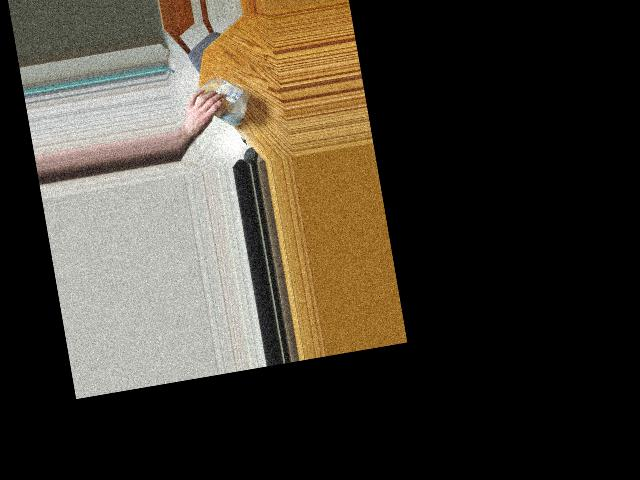cheese: (186, 71, 257, 132)
